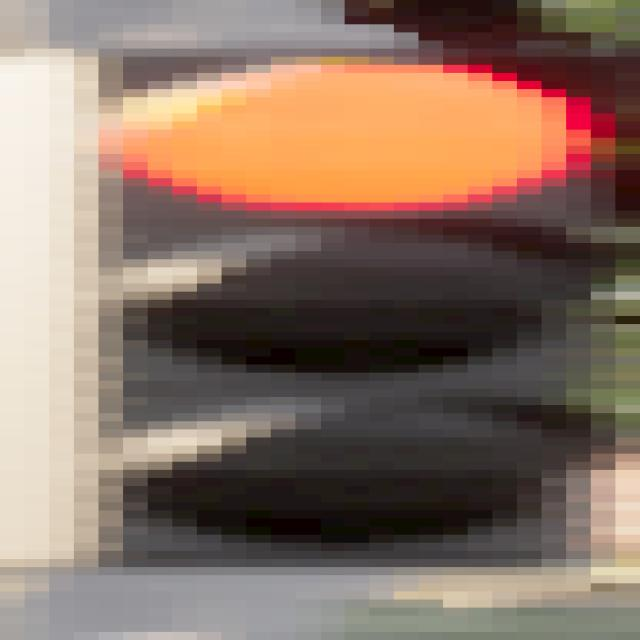red_light: (1, 47, 640, 577)
